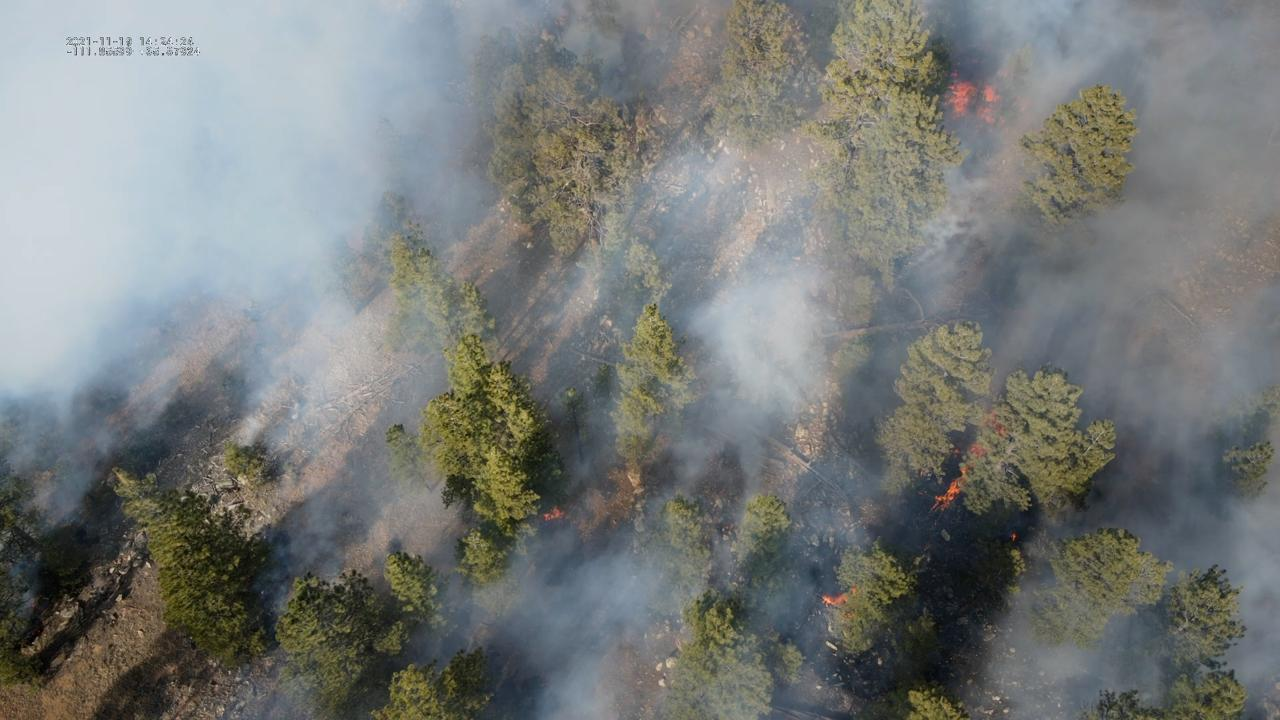fire: (945, 72, 1003, 127), (926, 477, 971, 515), (960, 441, 991, 475), (818, 582, 860, 607), (985, 412, 1006, 437), (541, 506, 566, 521), (1010, 531, 1017, 542)
smoke: (0, 0, 1280, 720)
